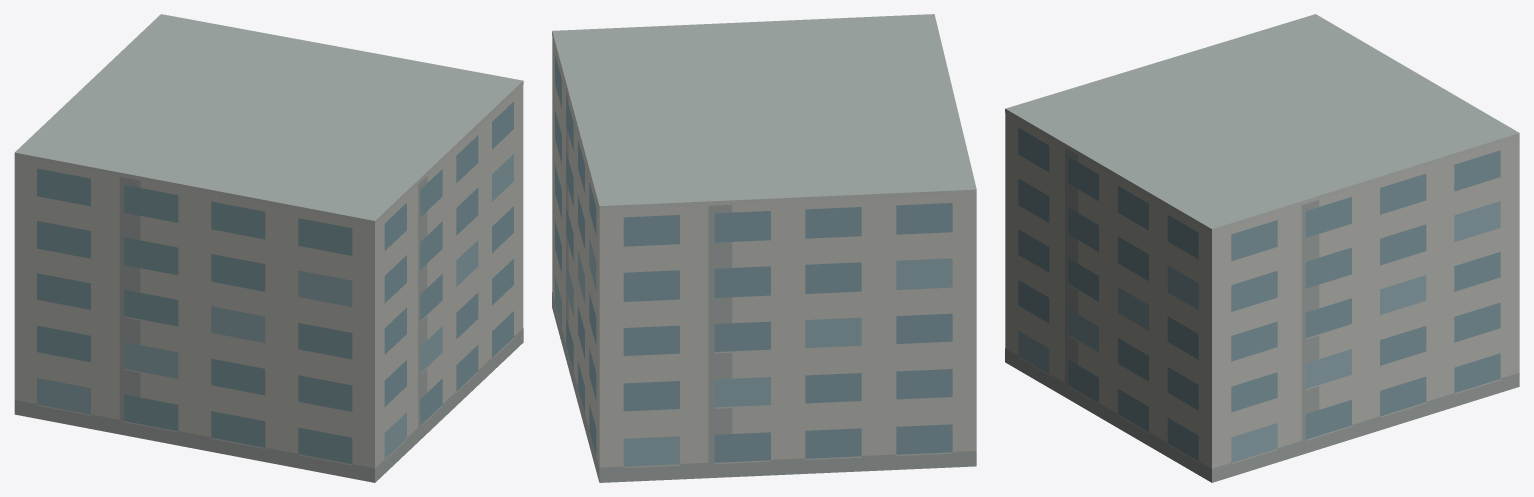
File: survey-upis-32678246.glb
3 renders of one model, left to right at view 1: azimuth 30°, elevation 25°; view 2: azimuth 150°, elevation 25°; view 3: azimuth 270°, elevation 25°, orthographic. The views are drawn at different scales.
Visible parts, largest first — view 1: survey-upis-32678246.tmp; view 2: survey-upis-32678246.tmp; view 3: survey-upis-32678246.tmp.
Boxes of the visible parts, bbox=[...] form: survey-upis-32678246.tmp: bbox=[14, 14, 523, 482]; survey-upis-32678246.tmp: bbox=[552, 14, 976, 482]; survey-upis-32678246.tmp: bbox=[1005, 14, 1519, 482].
Bounding box in the file's own units: 27.76 × 15.25 × 28.04.
